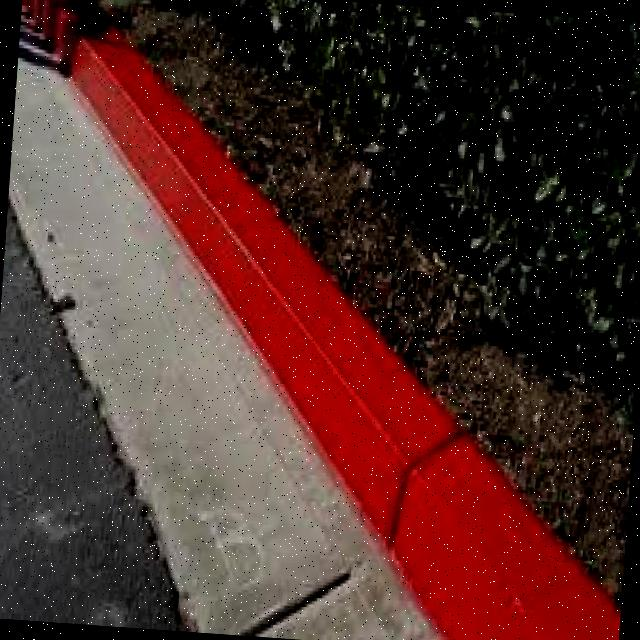curb: (87, 86, 324, 284), (366, 468, 623, 640), (263, 359, 511, 515), (179, 265, 401, 395), (16, 1, 133, 109)
